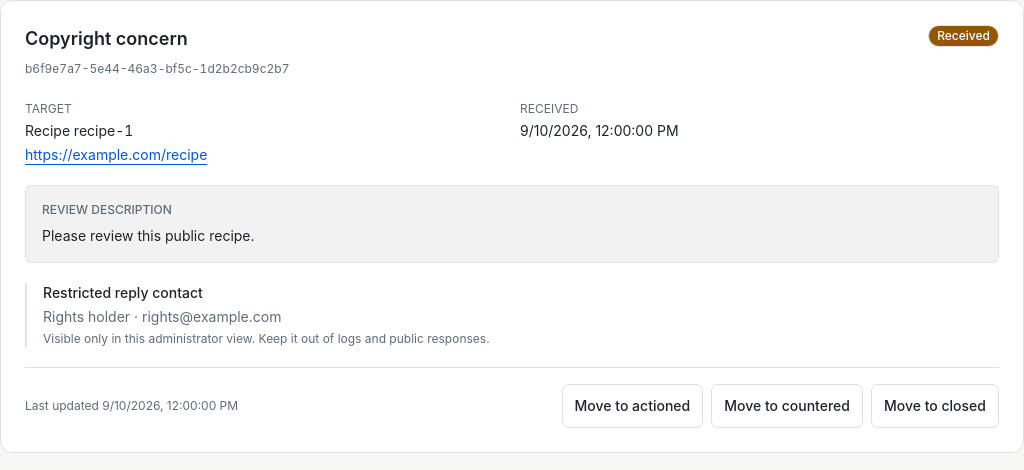
Test: ComplaintQueue › shows restricted contact data and updates the queue after a transition
Expected: the text "Rights holder · rights@example.com" is shown, [43,308,282,325]
Expected: the text "Please review this public recipe." is shown, [42,227,254,244]
Click the button "Move to actioned": point(632, 406) [562,384,703,428]
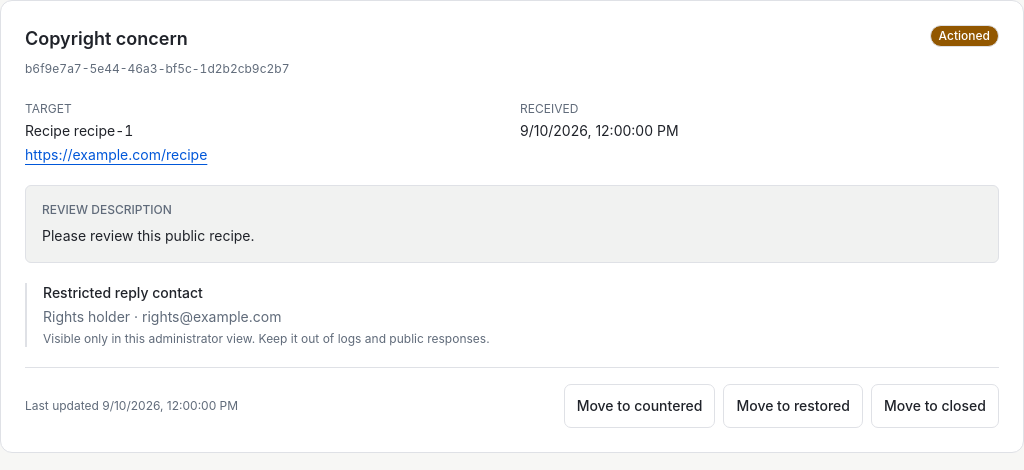
Now the text "Actioned" is shown, box [930,25,999,47]
